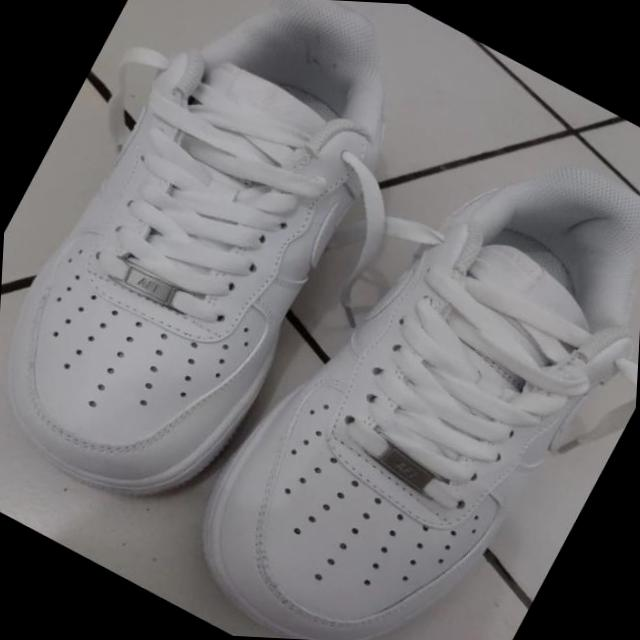nike_original_airforce: (165, 69, 640, 640), (0, 0, 450, 549)
